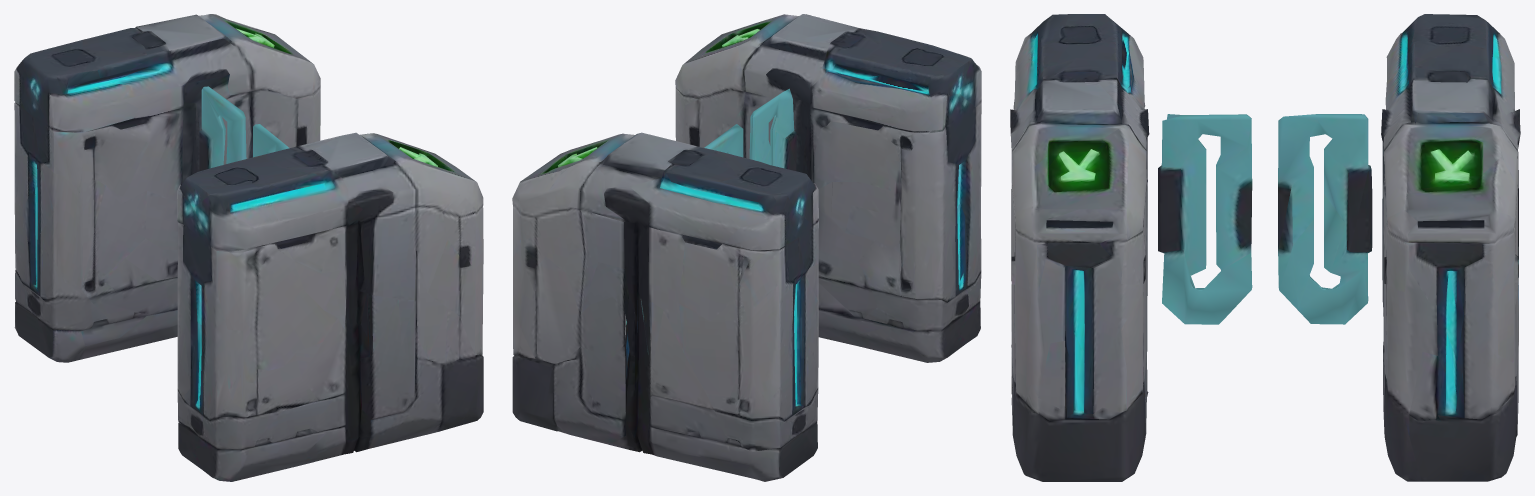
File: env-turnstiles.glb
3 views of the same model, side by side, from view 1: azimuth 30°, elevation 25°; view 2: azimuth 150°, elevation 25°; view 3: azimuth 270°, elevation 25° (orthographic). The views are drawn at different scales.
Parts seen in each view (by area): view 1: env-turnstiles; view 2: env-turnstiles; view 3: env-turnstiles.
Part boxes in pixels (x1=…): env-turnstiles: x1=14, y1=14, x2=483, y2=481; env-turnstiles: x1=512, y1=14, x2=981, y2=481; env-turnstiles: x1=1010, y1=14, x2=1520, y2=481.
Size of the model in its own units: 1.53 by 1.53 by 2.2.
1 material, 1 textured.
